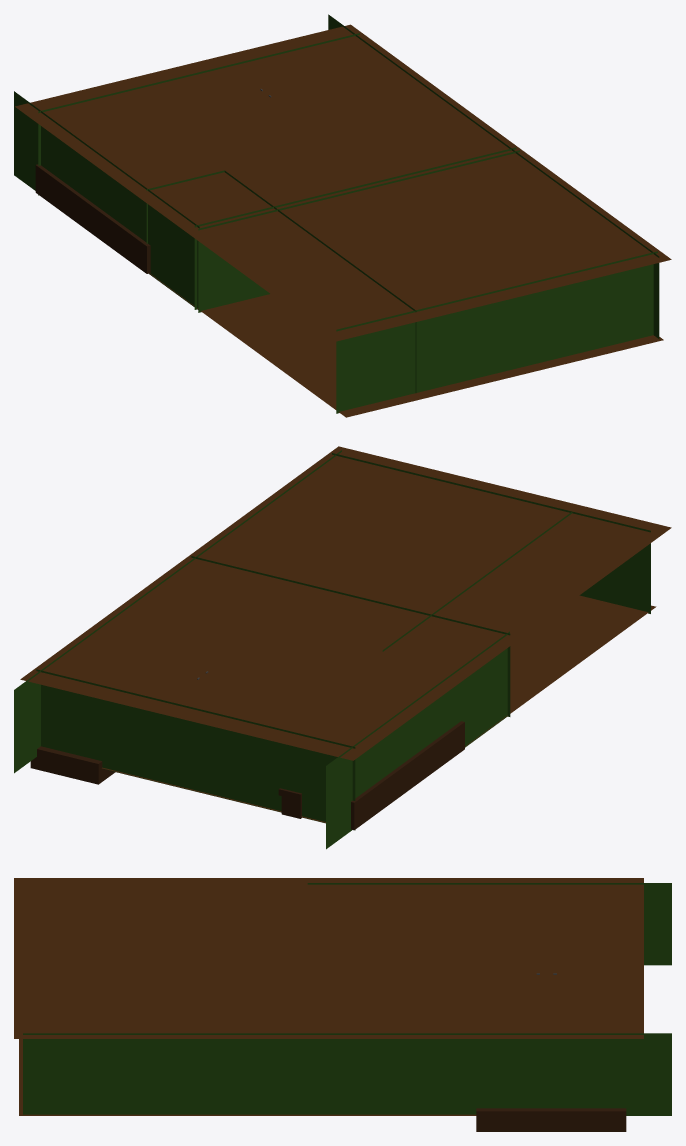
Rendered from barbackup.glb.
3 views of the same model, one above another, from view 1: azimuth 30°, elevation 25°; view 2: azimuth 150°, elevation 25°; view 3: azimuth 270°, elevation 25° (orthographic).
Visible parts, largest first — view 1: Ceiling, credits wall east, Plane.002, Floor, Bar Shelf, credits wall west, Plane.004, Plane, Plane.003, Plane.001; view 2: Ceiling, Plane.003, Plane.002, Floor, Bar Shelf, credits wall east, Plane.004, Stage, Plane; view 3: Ceiling, Plane.004, Stage, Plane.002, Floor.
Boxes of the visible parts, x1,y1,x2,y2 form: Ceiling: (15, 24, 671, 341); credits wall east: (336, 251, 657, 413); Plane.002: (14, 91, 199, 309); Floor: (149, 273, 663, 417); Bar Shelf: (35, 164, 150, 273); credits wall west: (198, 150, 519, 312); Plane.004: (328, 14, 659, 338); Plane: (194, 147, 516, 309); Plane.003: (38, 33, 359, 195); Plane.001: (146, 170, 416, 392); Ceiling: (20, 446, 671, 760); Plane.003: (36, 669, 355, 830); Plane.002: (326, 631, 509, 849); Floor: (102, 595, 656, 822); Bar Shelf: (351, 721, 464, 830); credits wall east: (332, 453, 650, 613); Plane.004: (14, 450, 341, 773); Stage: (30, 746, 115, 784); Plane: (191, 556, 510, 716); Ceiling: (14, 878, 643, 1038); Plane.004: (23, 1033, 671, 1115); Stage: (476, 1108, 626, 1131); Plane.002: (307, 883, 671, 965); Floor: (19, 1039, 476, 1115).
Size of the model in its own units: 20.41 by 5.65 by 35.28.
Materials: 15 (9 with a texture image).
